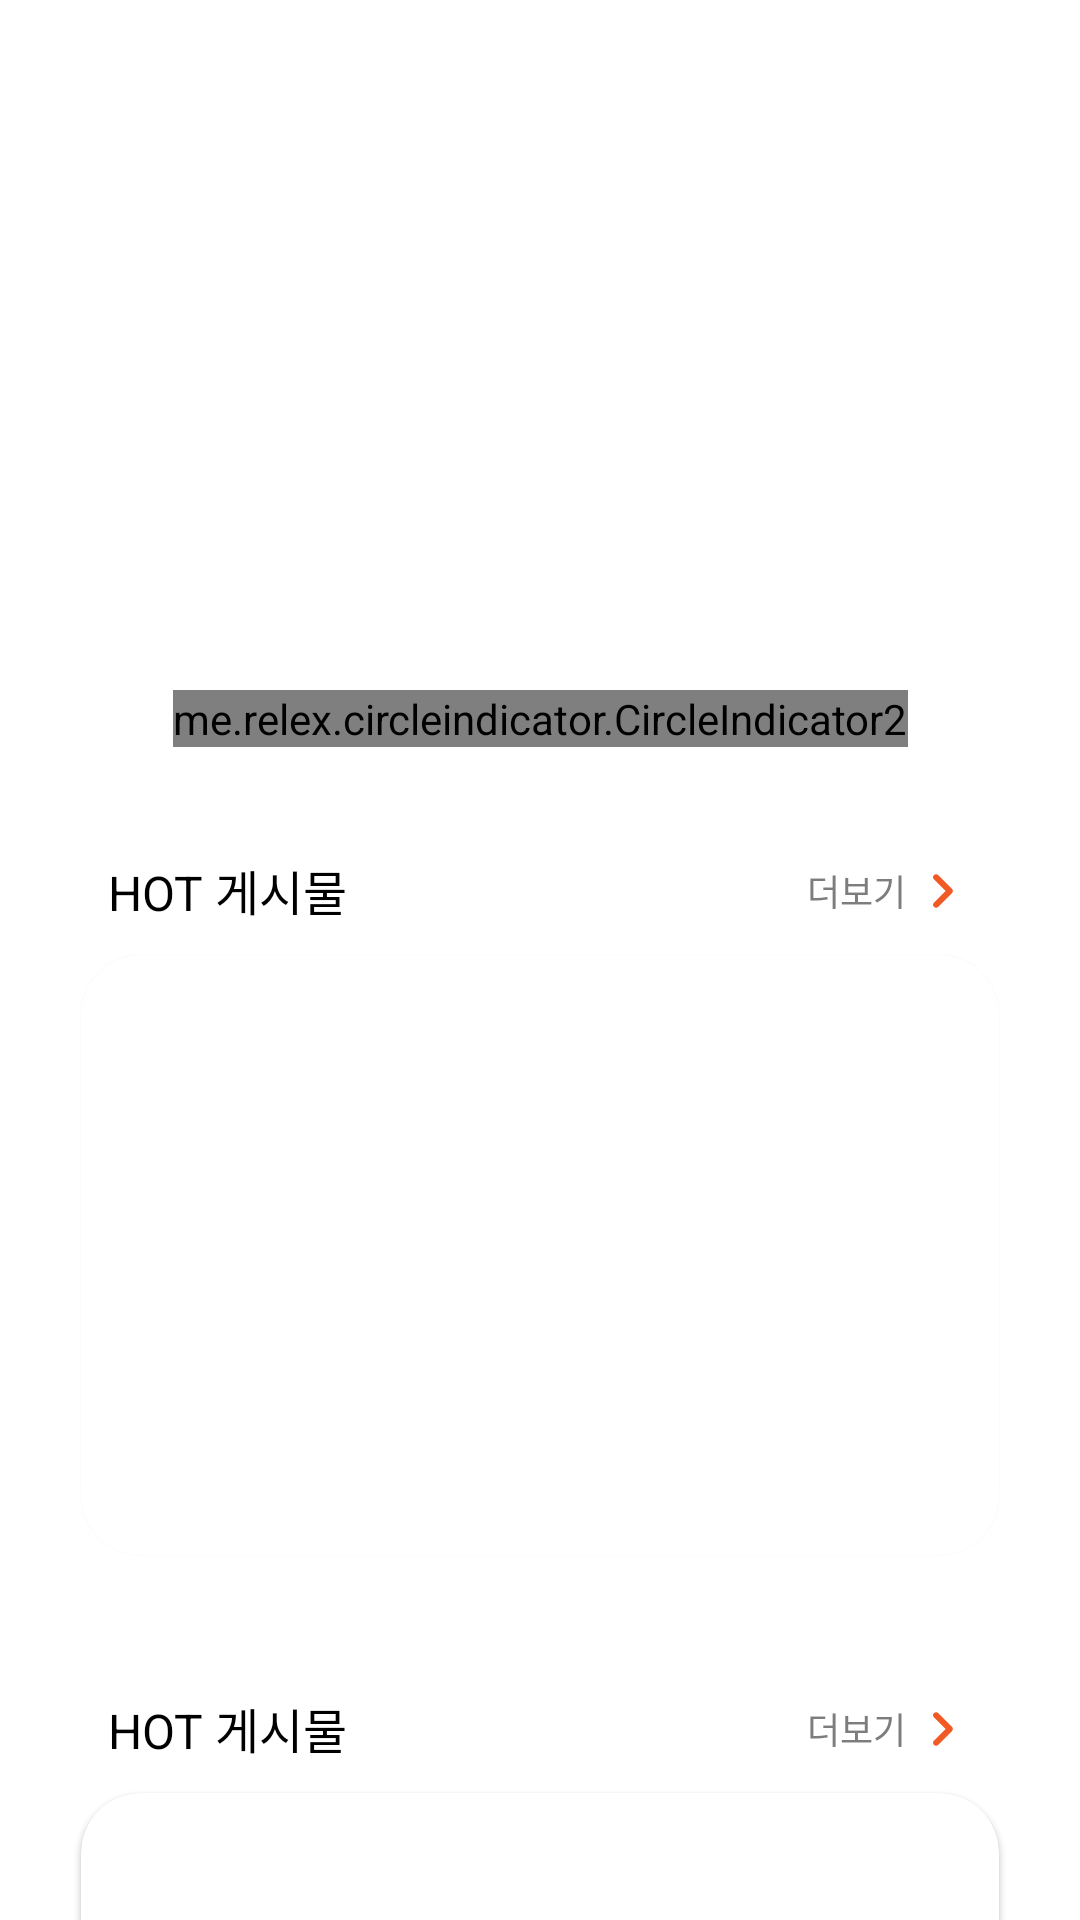

Point at icon controls on the screen. Image size 1080 × 1920, points as [x,y].
next: [943,891], [943,1729]
